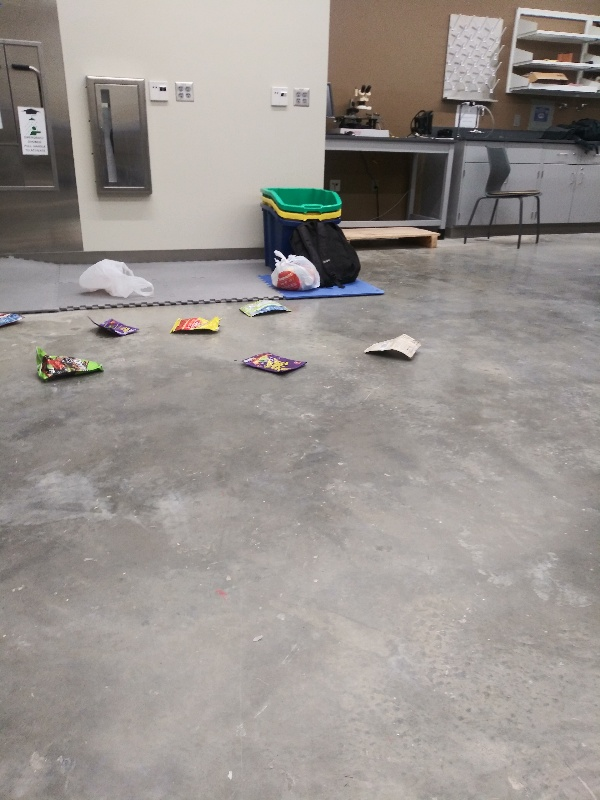bag: (32, 344, 112, 382), (361, 332, 426, 361), (239, 351, 309, 376), (84, 314, 141, 336), (168, 314, 224, 336), (237, 299, 293, 319), (1, 313, 23, 328)
